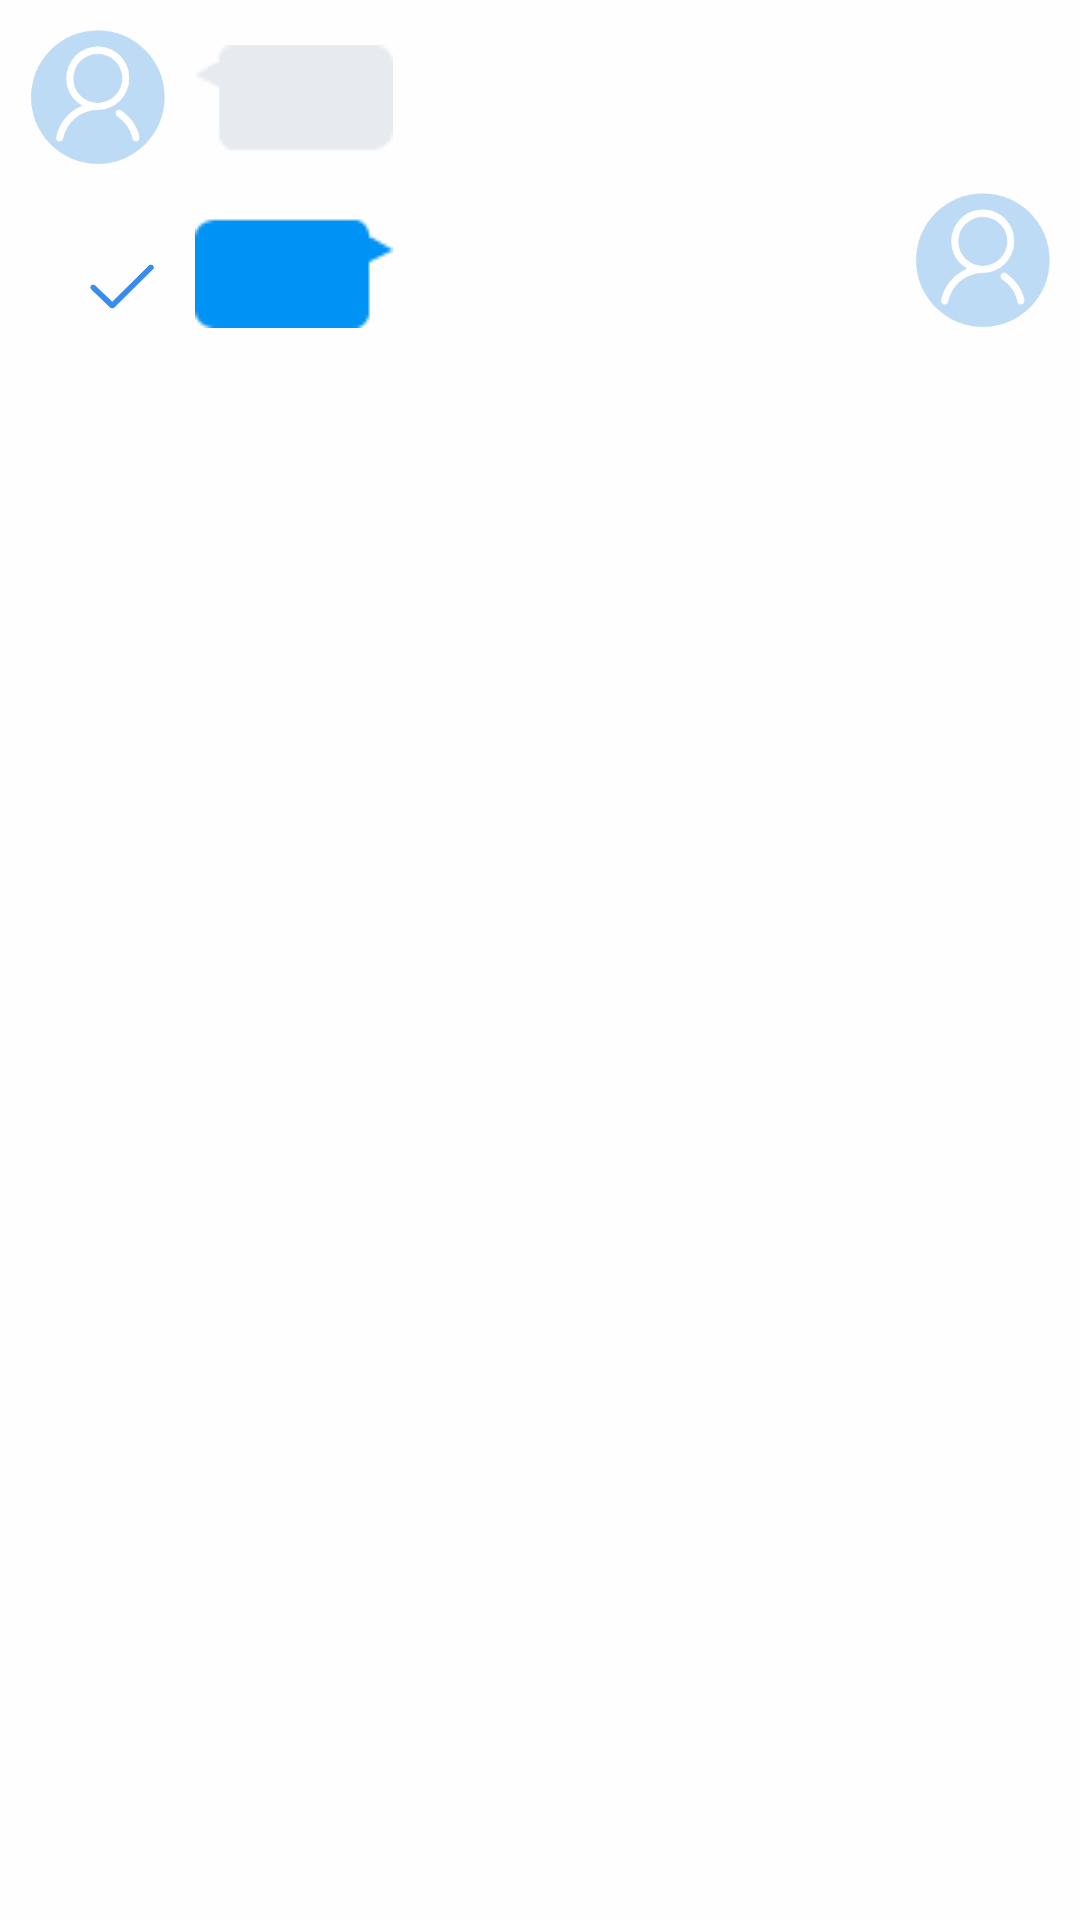

Icons on this 1080 x 1920 Android screen, each with its box as rect(x1, y1, x2, y2):
head: rect(31, 30, 165, 164), rect(916, 193, 1050, 327)
read: rect(90, 264, 154, 309)
